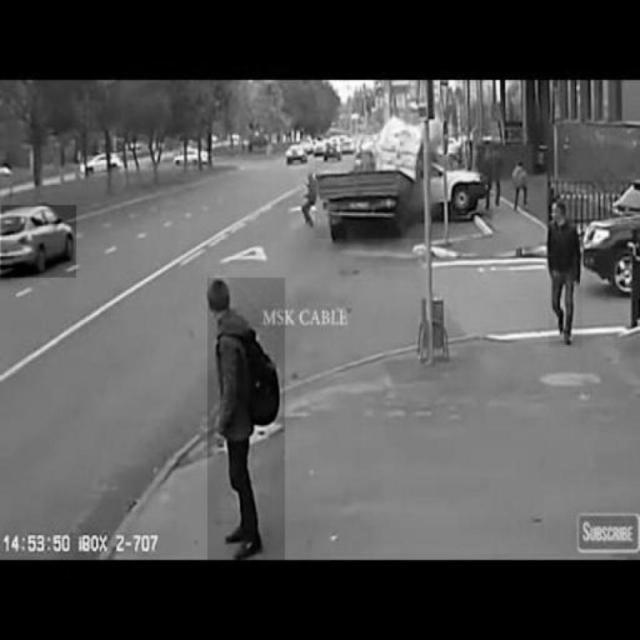accident: (316, 153, 493, 239)
person: (207, 278, 285, 560), (549, 205, 583, 347)
vehicle: (1, 205, 75, 278)
